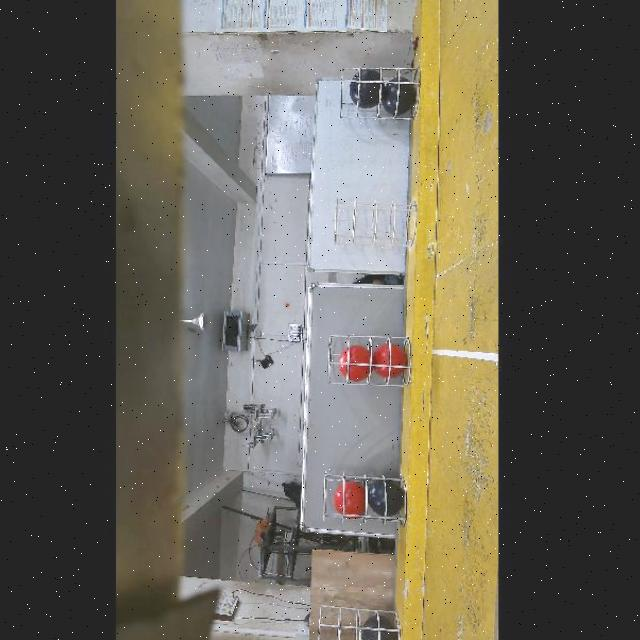P: (368, 481, 405, 517), (350, 70, 384, 109), (381, 77, 415, 115), (361, 618, 398, 640)
R: (333, 481, 365, 519), (339, 346, 373, 381), (372, 345, 406, 379)
S: (321, 474, 402, 536), (328, 336, 410, 394), (337, 67, 413, 129), (332, 200, 412, 258), (315, 602, 401, 640)
